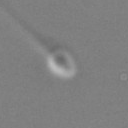normal: (1, 4, 52, 52)
